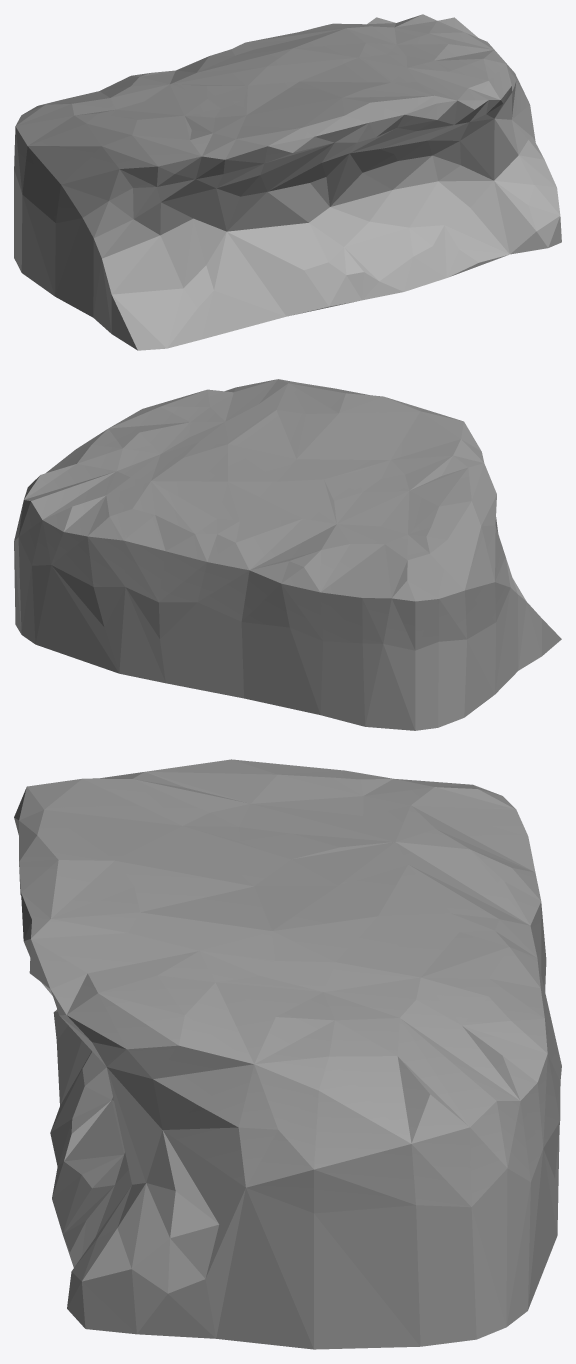
File: SM_Gen_Env_Ground_River_Dirt_02.glb
3 views of the same model, one above another, from view 1: azimuth 30°, elevation 25°; view 2: azimuth 150°, elevation 25°; view 3: azimuth 270°, elevation 25° (orthographic). The views are drawn at different scales.
Parts seen in each view (by area): view 1: SM_Gen_Env_Ground_River_Dirt_02; view 2: SM_Gen_Env_Ground_River_Dirt_02; view 3: SM_Gen_Env_Ground_River_Dirt_02.
Part boxes in pixels (x1,y1,x2,y2): SM_Gen_Env_Ground_River_Dirt_02: [14, 14, 561, 350]; SM_Gen_Env_Ground_River_Dirt_02: [14, 379, 561, 730]; SM_Gen_Env_Ground_River_Dirt_02: [14, 759, 561, 1349].
Size of the model in its own units: 7.37 by 3 by 4.73.
Materials: 1 (1 with a texture image).
